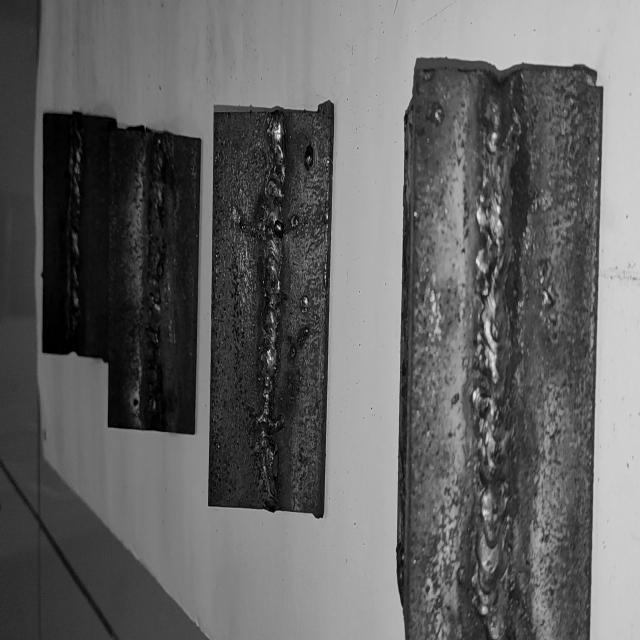Defect: (146, 133, 172, 420)
Welding Line: (476, 87, 517, 640), (256, 114, 288, 504), (146, 135, 168, 426), (68, 124, 84, 352)
Workpiece: (390, 51, 603, 640), (206, 95, 332, 522), (110, 124, 200, 440), (42, 118, 116, 362)
